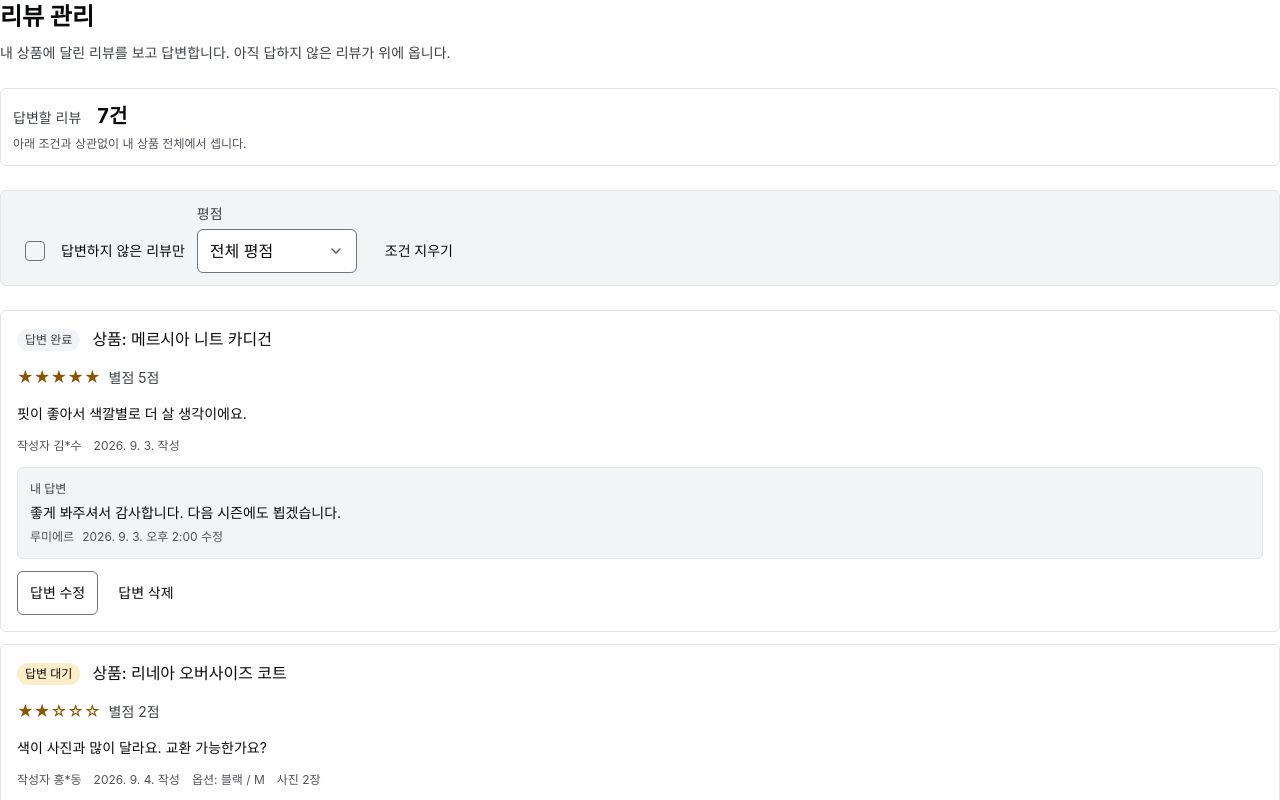
Test: 답변 지우기 › removes the reply and leaves the review standing
Click the button "답변 삭제" at (146, 593), box [106, 571, 186, 615]
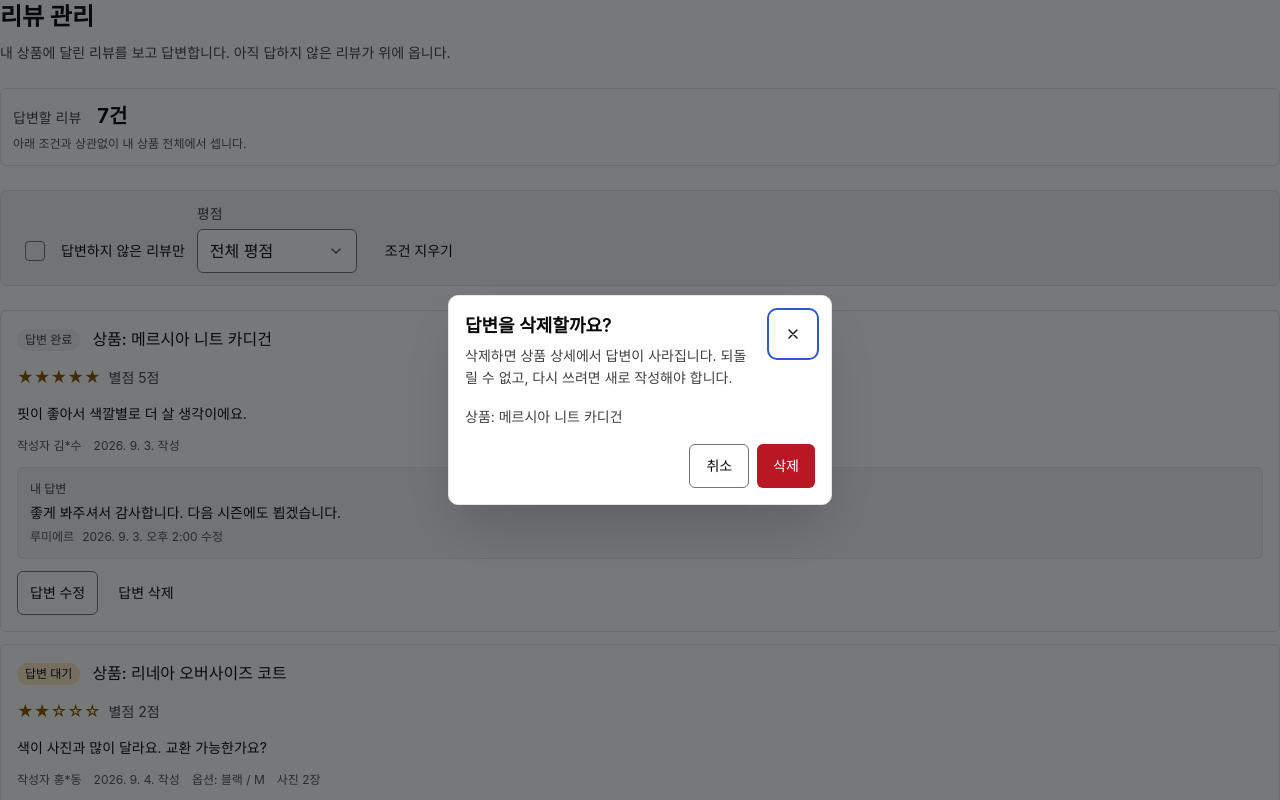
Click the button "삭제" at (786, 466), box [757, 444, 815, 488]
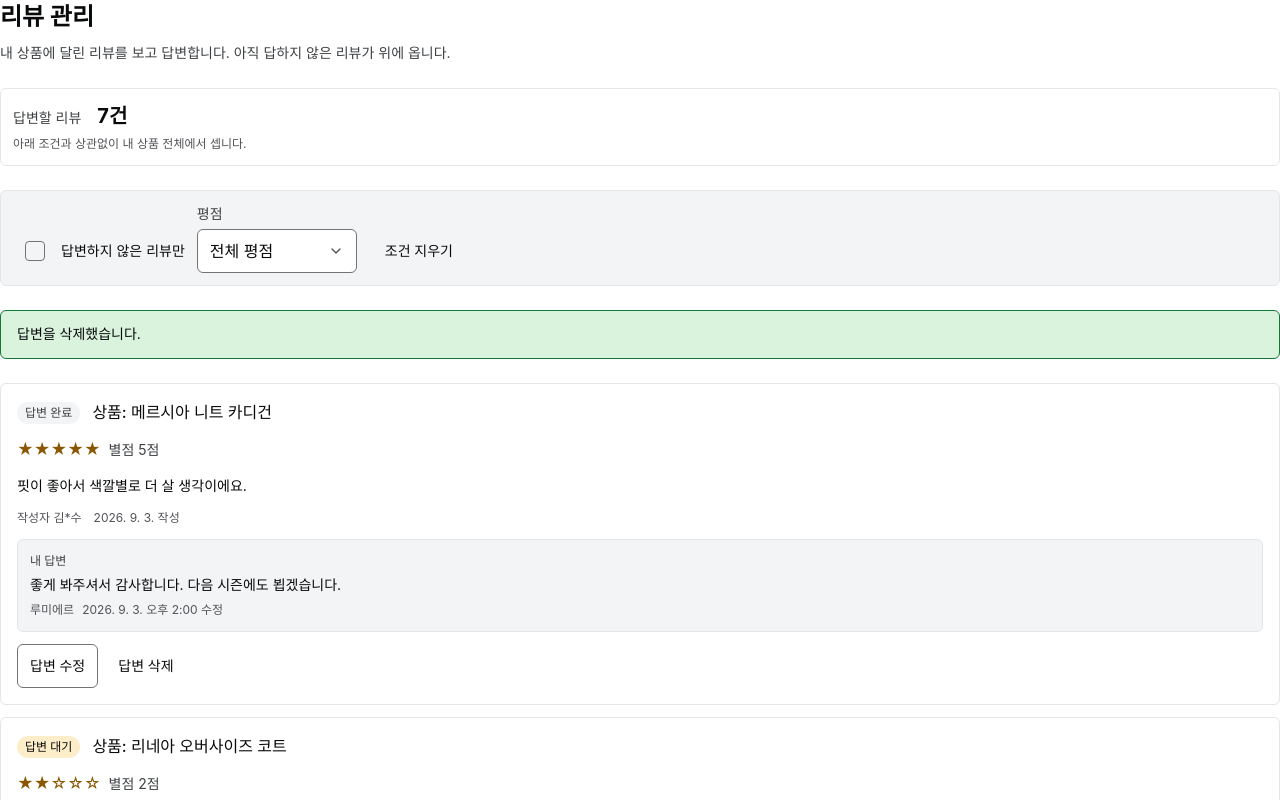
Result: the text "답변을 삭제했습니다." is shown at [0, 310, 1279, 359]
